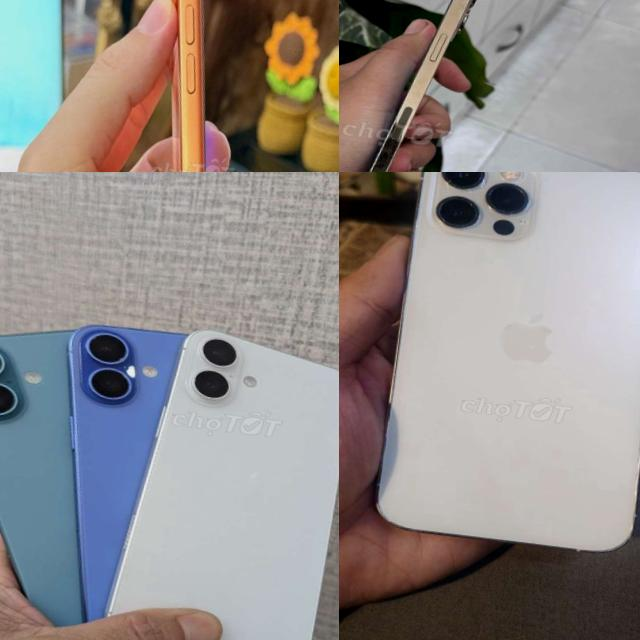gen_12_13: (375, 172, 640, 564)
gen_15: (348, 0, 492, 172)
gen_16: (90, 312, 339, 640)
gen_17: (94, 0, 294, 172)
